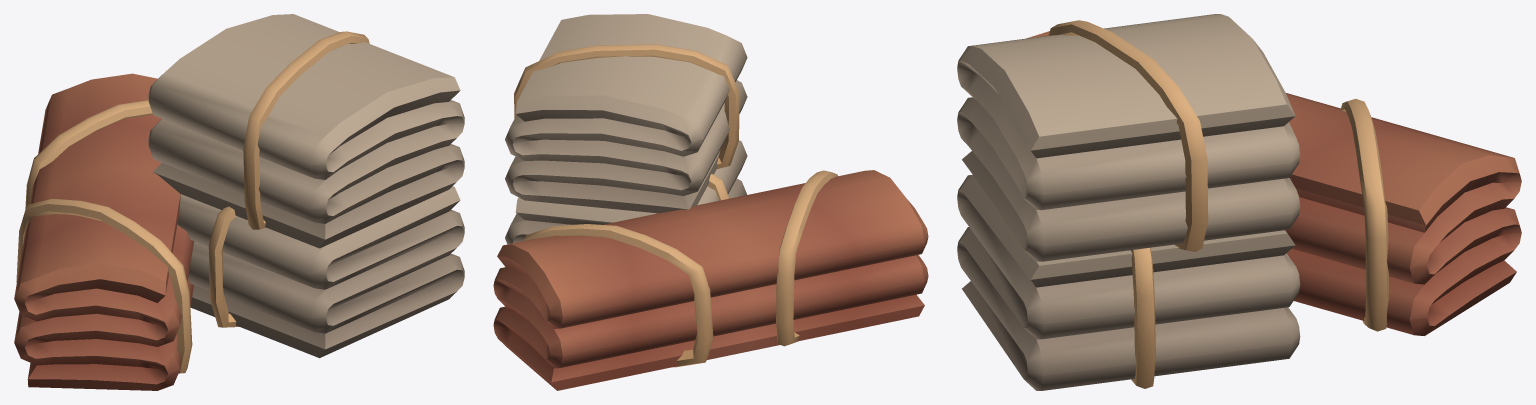
The model's file is textiles_stack_small.glb.
3 views of the same model, side by side, from view 1: azimuth 30°, elevation 25°; view 2: azimuth 150°, elevation 25°; view 3: azimuth 270°, elevation 25° (orthographic). The views are drawn at different scales.
Visible parts, largest first — view 1: Textiles_Stack_Small; view 2: Textiles_Stack_Small; view 3: Textiles_Stack_Small.
Boxes of the visible parts, x1=… form: Textiles_Stack_Small: x1=14, y1=14, x2=464, y2=390; Textiles_Stack_Small: x1=493, y1=14, x2=928, y2=390; Textiles_Stack_Small: x1=957, y1=14, x2=1521, y2=390.
Bounding box in the file's own units: 0.9945 × 0.5591 × 0.951.
Materials: 1 (1 with a texture image).
